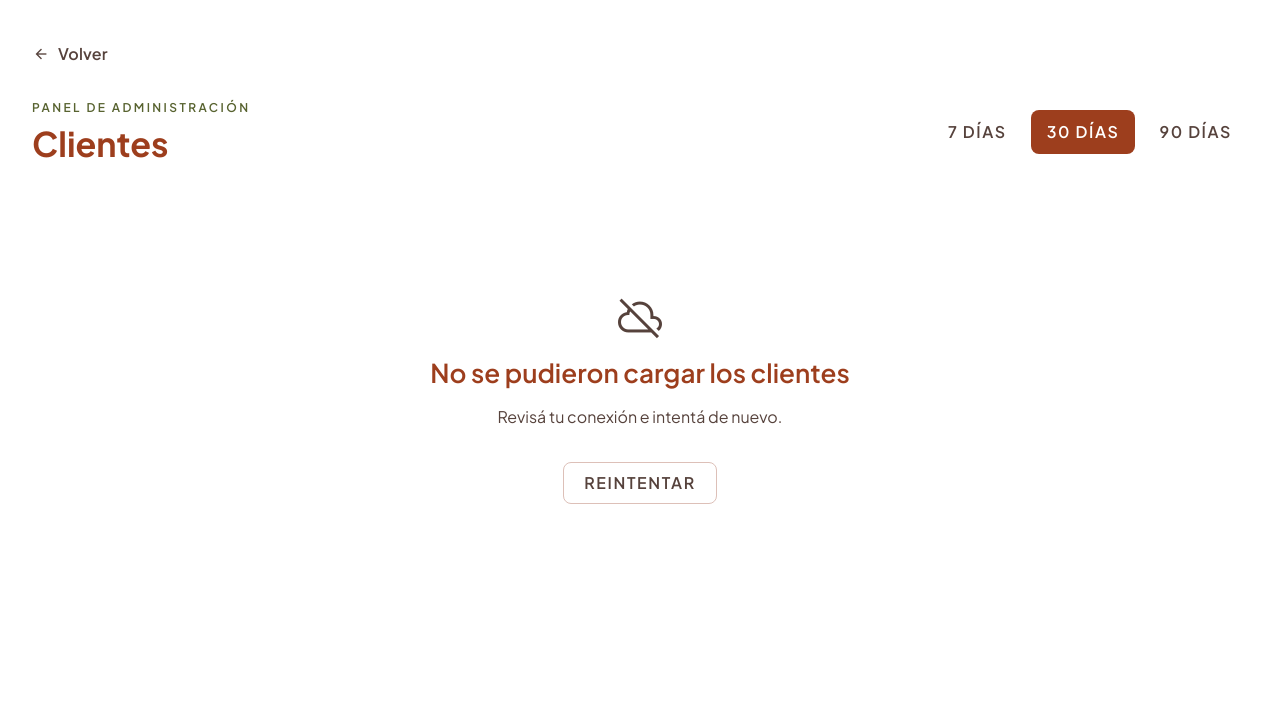
Test: AdminClientes › estado de error de carga › Reintentar vuelve a pedir, y el fetch exitoso limpia el error
Expected: the heading "No se pudieron cargar los clientes" is shown, 430,357 -> 850,390
Click the button "Reintentar".
click(640, 483)  # box 563,462 -> 717,504
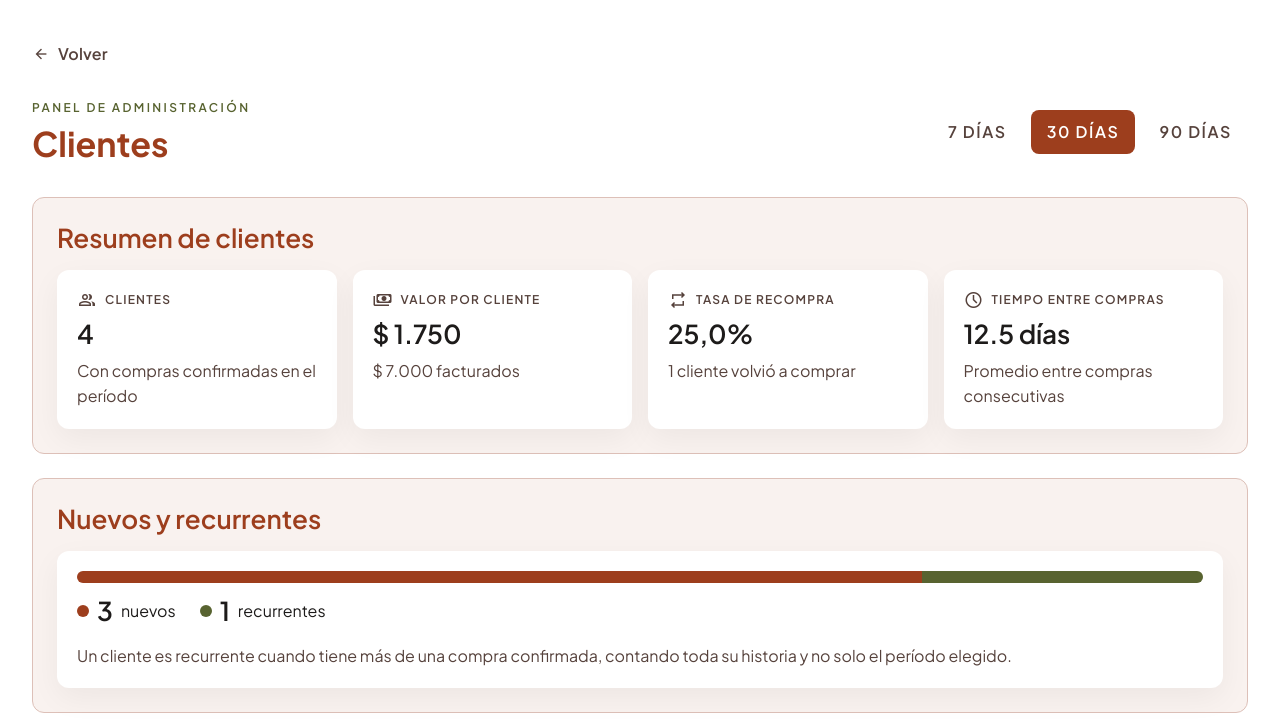
Expected: the text "$ 1.750" is shown, 372,318 -> 462,350
Expected: the heading "No se pudieron cargar los clientes" is gone
